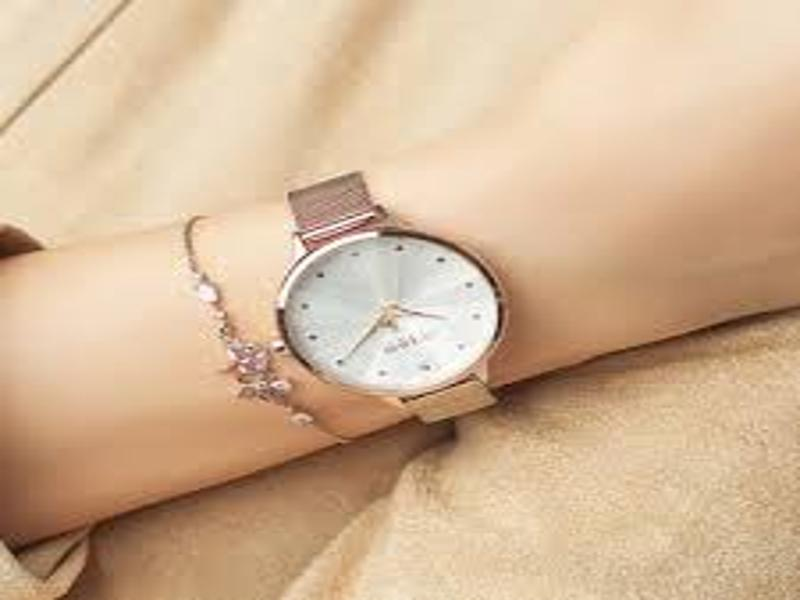watch: (278, 167, 518, 427)
